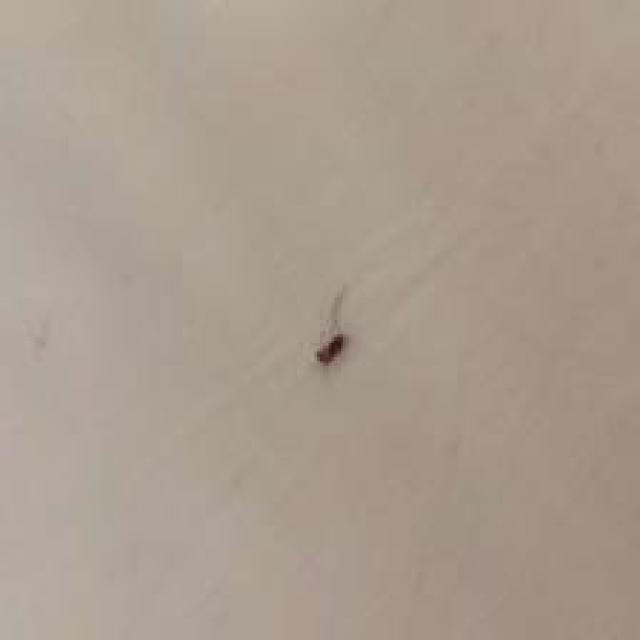Culex: (313, 283, 350, 366)
